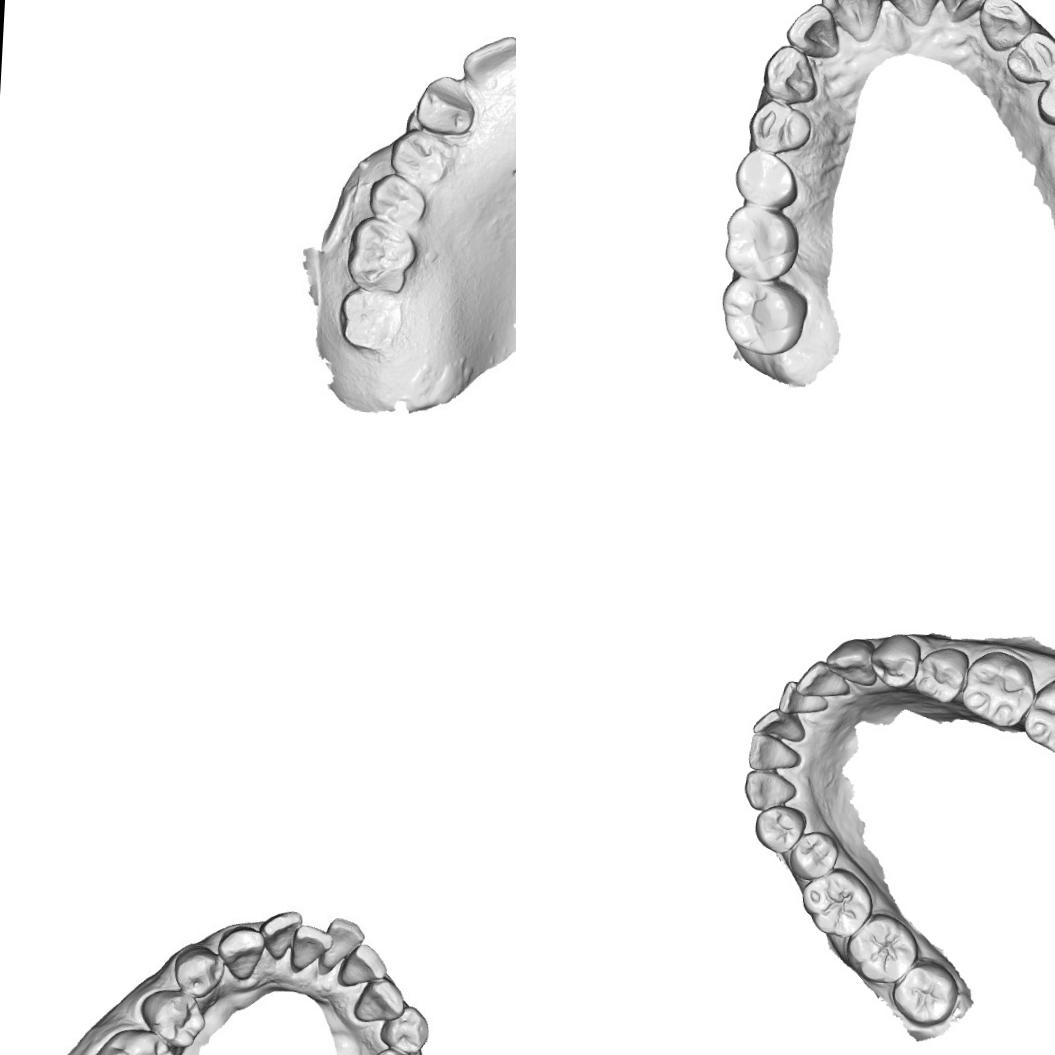canine: (414, 70, 476, 138), (759, 42, 822, 106), (218, 918, 266, 986), (973, 0, 1033, 54), (350, 974, 405, 1024), (824, 636, 878, 686), (740, 766, 798, 812)
incisor: (783, 0, 843, 60), (814, 0, 883, 43), (462, 37, 516, 84), (872, 0, 946, 33), (744, 730, 802, 772), (794, 658, 852, 699), (262, 905, 300, 962), (750, 705, 807, 742), (319, 921, 362, 970), (777, 678, 830, 716), (291, 928, 330, 974), (341, 946, 382, 984), (937, 0, 992, 25)
molar: (716, 275, 806, 358), (723, 201, 805, 286), (959, 648, 1037, 728), (799, 864, 875, 940), (843, 910, 921, 984), (890, 958, 960, 1026), (350, 224, 412, 291), (339, 289, 400, 352), (1022, 674, 1055, 759), (93, 1031, 178, 1055)
premolar: (729, 148, 800, 208), (745, 97, 812, 154), (142, 986, 204, 1046), (912, 644, 969, 704), (751, 802, 808, 856), (1002, 27, 1055, 85), (393, 134, 454, 184), (868, 632, 921, 689), (786, 829, 839, 882), (369, 174, 419, 225), (178, 947, 220, 997), (383, 1006, 426, 1049), (1034, 66, 1055, 128)
